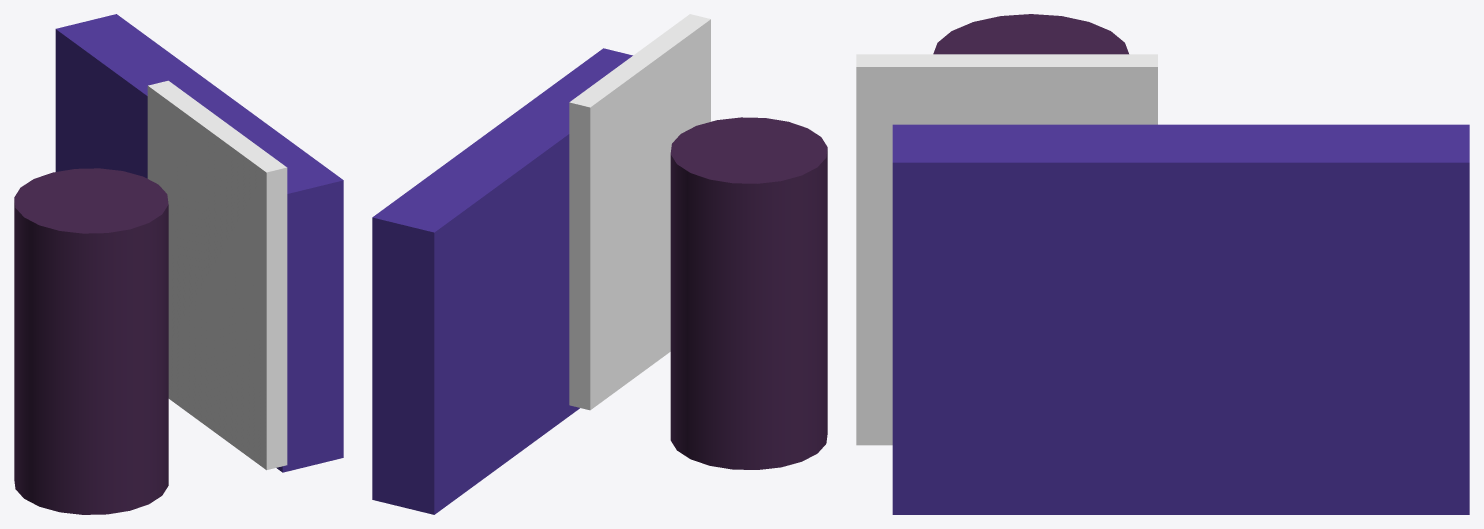
File: Enemy1.fbx
3 renders of one model, left to right at view 1: azimuth 30°, elevation 25°; view 2: azimuth 150°, elevation 25°; view 3: azimuth 270°, elevation 25°, orthographic. The views are drawn at different scales.
Visible parts, largest first — view 1: Enemy1, Shield For Enemy One, EnemyShield; view 2: EnemyShield, Enemy1, Shield For Enemy One; view 3: EnemyShield, Shield For Enemy One, Enemy1.
Part boxes in pixels (bbox=[...]): Enemy1: bbox=[14, 168, 168, 514]; Shield For Enemy One: bbox=[147, 80, 287, 470]; EnemyShield: bbox=[55, 14, 343, 472]; EnemyShield: bbox=[372, 48, 632, 514]; Enemy1: bbox=[670, 117, 827, 469]; Shield For Enemy One: bbox=[569, 14, 710, 410]; EnemyShield: bbox=[892, 124, 1469, 514]; Shield For Enemy One: bbox=[856, 54, 1157, 445]; Enemy1: bbox=[933, 14, 1128, 54].
Size of the model in its own units: 197 by 238 by 311.
